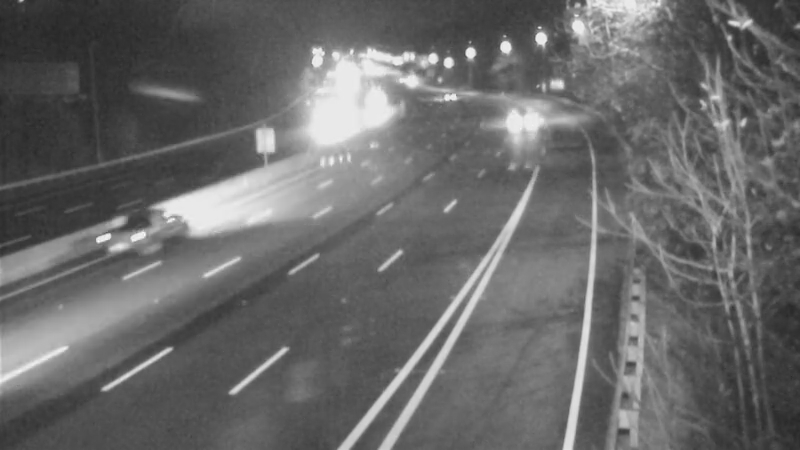vehicle: (93, 194, 173, 274), (494, 95, 544, 145), (426, 72, 476, 122), (305, 104, 355, 154)
